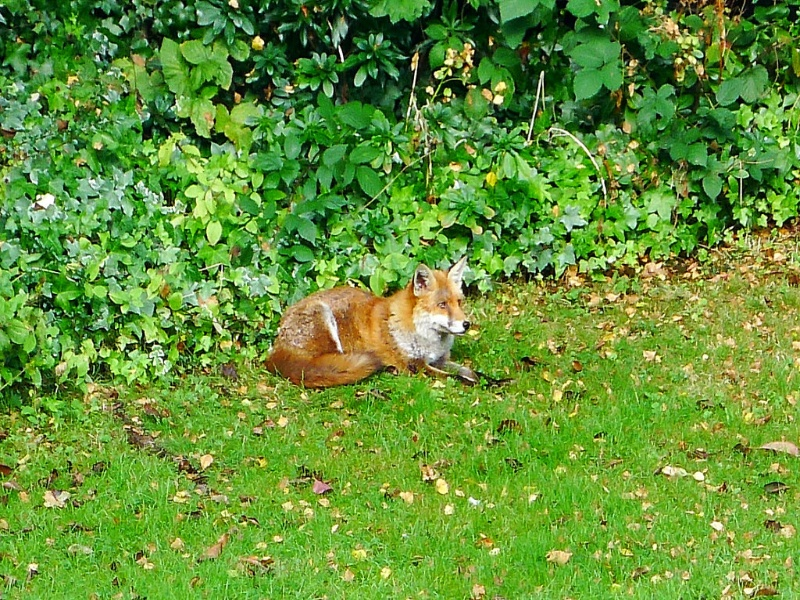fox: (265, 251, 485, 387)
